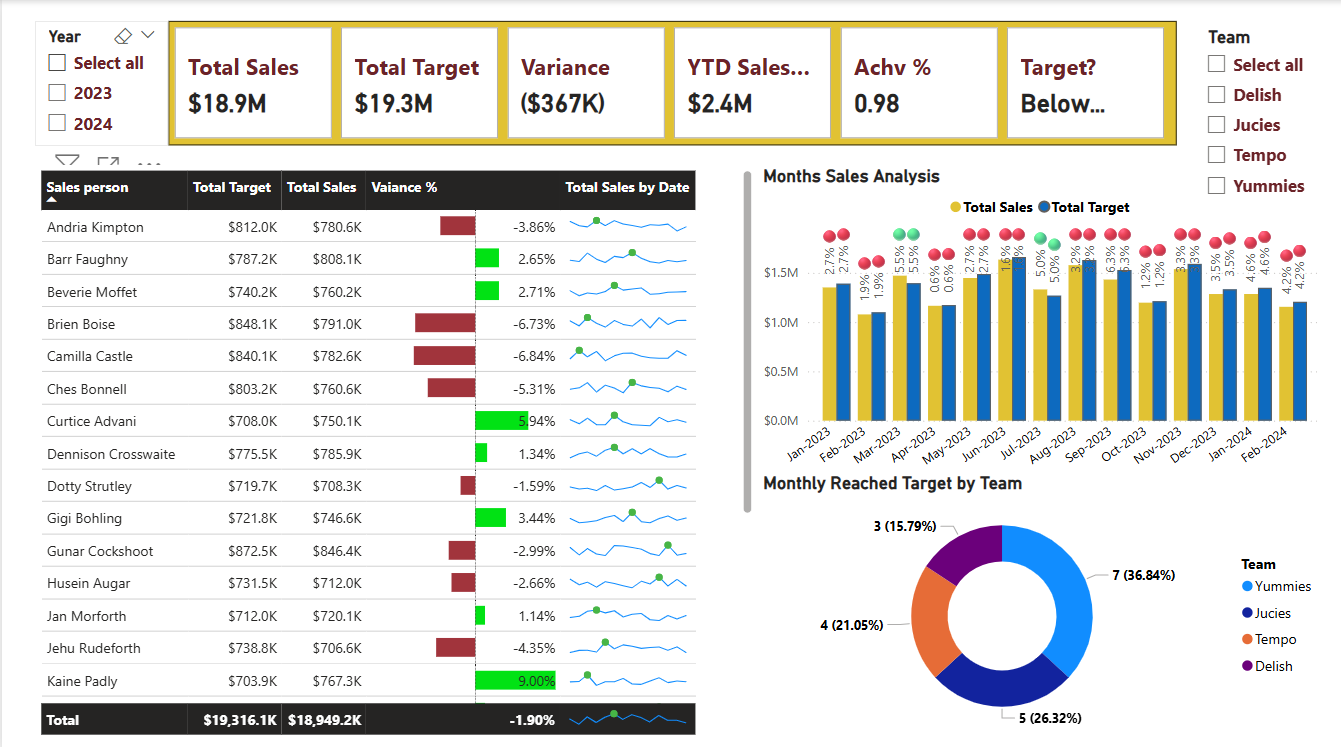

What the dashboard file says about the page in this screenshot:
{"tool":"powerbi","page":{"name":"Page 1","canvas":[1280,720],"ordinal":0},"visuals":[{"type":"cardVisual","fields":{"Data":["Actual.Total Sales Actual","Actual.Total Sales Target","Actual.Variance","Actual.YTD Actual SVar","Actual.Achievement %","Actual.Is Over Target"]},"box":[159.3,20.3,962.5,118.6],"z":0},{"type":"clusteredColumnChart","title":"Months Sales Analysis","fields":{"Y":["Actual.Total Sales Actual","Actual.Total Sales Target"],"Category":["Calendar.Date"]},"box":[722,157.9,542.7,309.2],"z":1000},{"type":"slicer","fields":{"Values":["Calendar.Date.Variation.Date Hierarchy.Year"]},"box":[32.2,20.3,127.1,118.6],"z":2000},{"type":"tableEx","fields":{"Values":["dimPeople.Sales person","Actual.Total Sales Target","Actual.Total Sales Actual","Actual.Vaiance %","SparklineData(Actual.Total Sales Actual_[Calendar.Date])"]},"box":[32.2,157.6,689.7,549.1],"z":3000},{"type":"slicer","fields":{"Values":["dimPeople.Team"]},"box":[1138.8,20.3,125.4,176.2],"z":4000},{"type":"donutChart","fields":{"Y":["Actual.Monthly Reached Target"],"Category":["dimPeople.Team"]},"box":[722.1,451.7,542.4,254.5],"z":5000}]}

Visuals, with their boxes in screenshot pixels (x1, y1, x2, y2), scaled from the page's 1280x720 canvas onto the 1341x747 screenshot:
cardVisual - Actual.Total Sales Actual x Actual.Total Sales Target: [167,21,1175,144]
"Months Sales Analysis" clusteredColumnChart: [756,164,1325,485]
slicer - Calendar.Date.Variation.Date Hierarchy.Year: [34,21,167,144]
tableEx - dimPeople.Sales person x Actual.Total Sales Target: [34,164,756,733]
slicer - dimPeople.Team: [1193,21,1324,204]
donutChart - Actual.Monthly Reached Target x dimPeople.Team: [757,469,1325,733]
